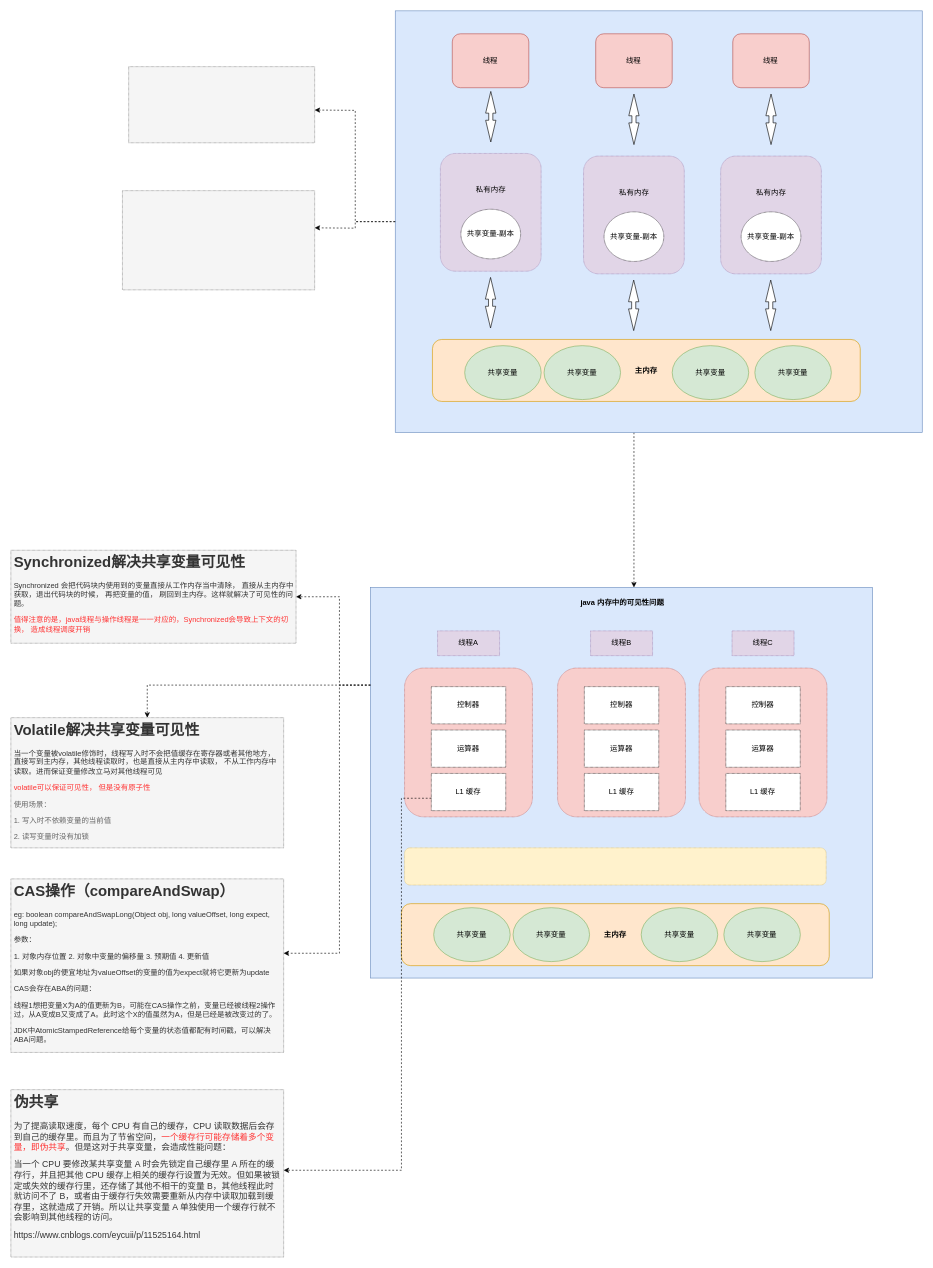
Image size: 933x1268. Some labels were removed from this diagram. Here are the shapes that lost their labels. From the top down, the centre of each, then its label:
the point at 221,104: Java 内存模型规定 所有变量放主内存，当线程使用变量时，把主内存的变量， 复制到自己的工作内存中， 或者叫工作空间中。
the point at 218,240: Java线程安全问题 多个线程在没有任何同步措施的情况下，同时读写共享资源， 出现脏数据，或者不可预见的结果。
the point at 615,866: L2 缓存
